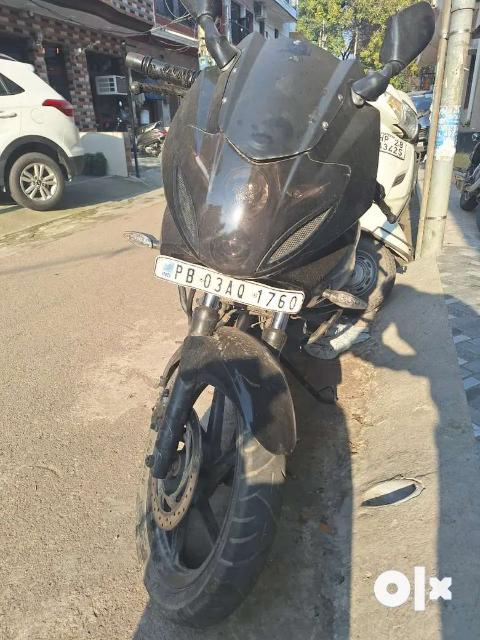Indian_Number_Plate: (154, 257, 306, 314)
